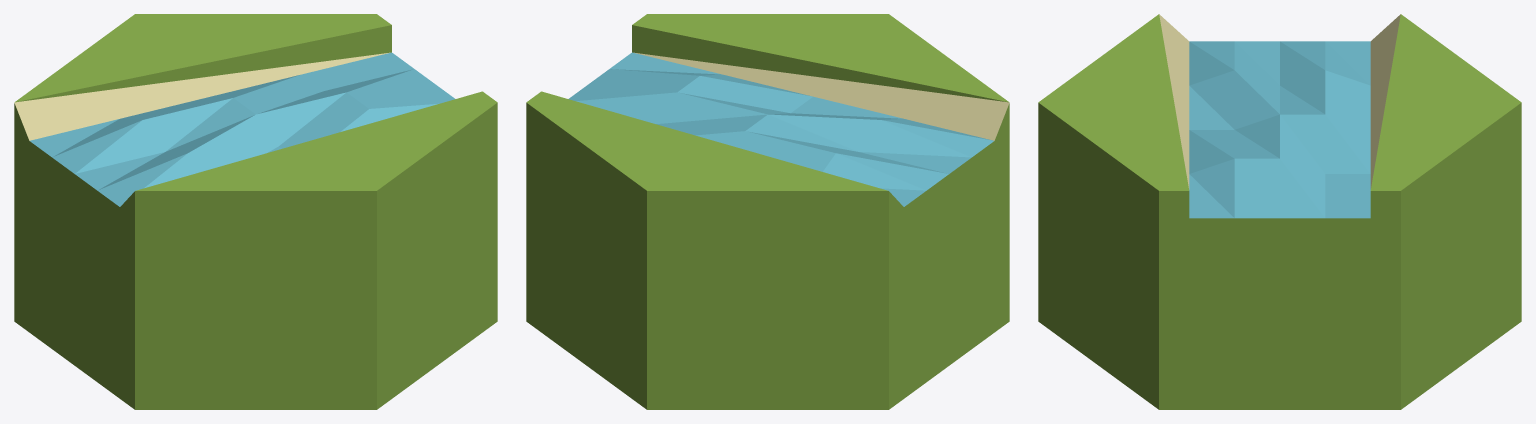
Rendered from river6.fbx.
3 views of the same model, side by side, from view 1: azimuth 30°, elevation 25°; view 2: azimuth 150°, elevation 25°; view 3: azimuth 270°, elevation 25° (orthographic).
Visible parts, largest first — view 1: Cylinder; view 2: Cylinder; view 3: Cylinder.
Part boxes in pixels (<box>): Cylinder: <box>14,14,497,409</box>; Cylinder: <box>526,14,1009,409</box>; Cylinder: <box>1038,14,1521,409</box>.
Bounding box in the file's own units: 1.73 × 1 × 2.
